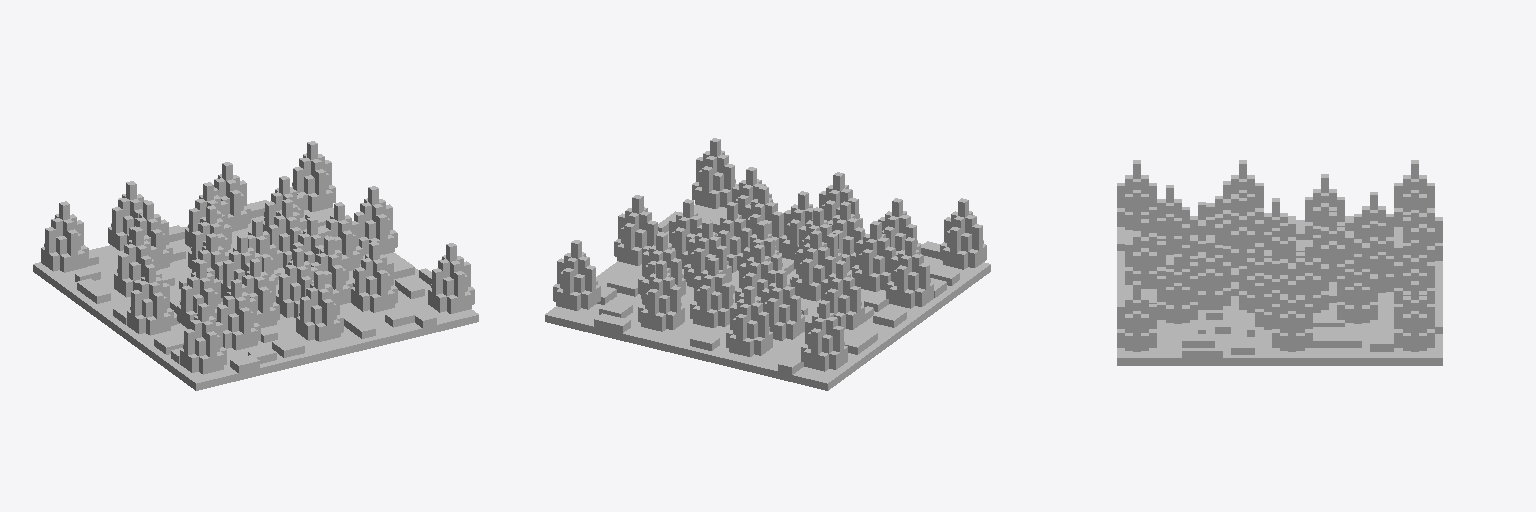
Rendered from forest.obj.
3 views of the same model, side by side, from view 1: azimuth 30°, elevation 25°; view 2: azimuth 150°, elevation 25°; view 3: azimuth 270°, elevation 25° (orthographic).
Parts seen in each view (by area): view 1: object 1; view 2: object 1; view 3: object 1.
Boxes of the visible parts, box(x1,y1,x2,y2) form: object 1: box(33, 141, 478, 390); object 1: box(545, 138, 990, 390); object 1: box(1117, 160, 1442, 365).
Size of the model in its own units: 4 by 1.1 by 4.